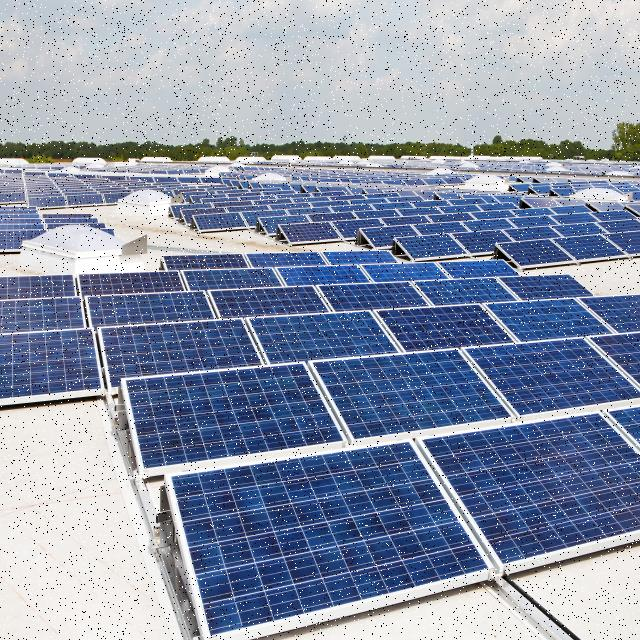clean: (174, 450, 483, 623)
